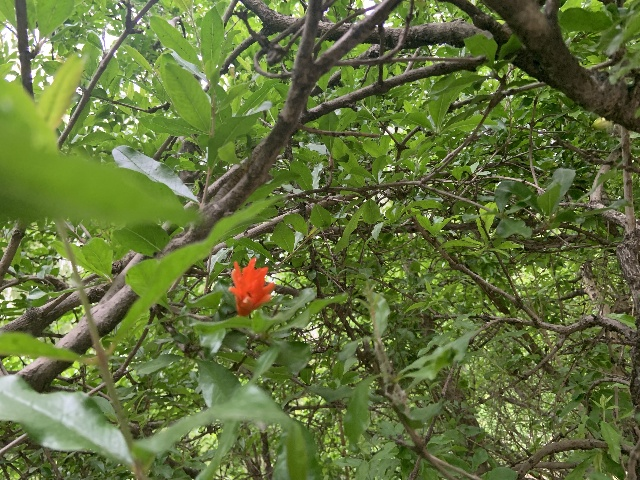flower: (228, 256, 275, 317)
